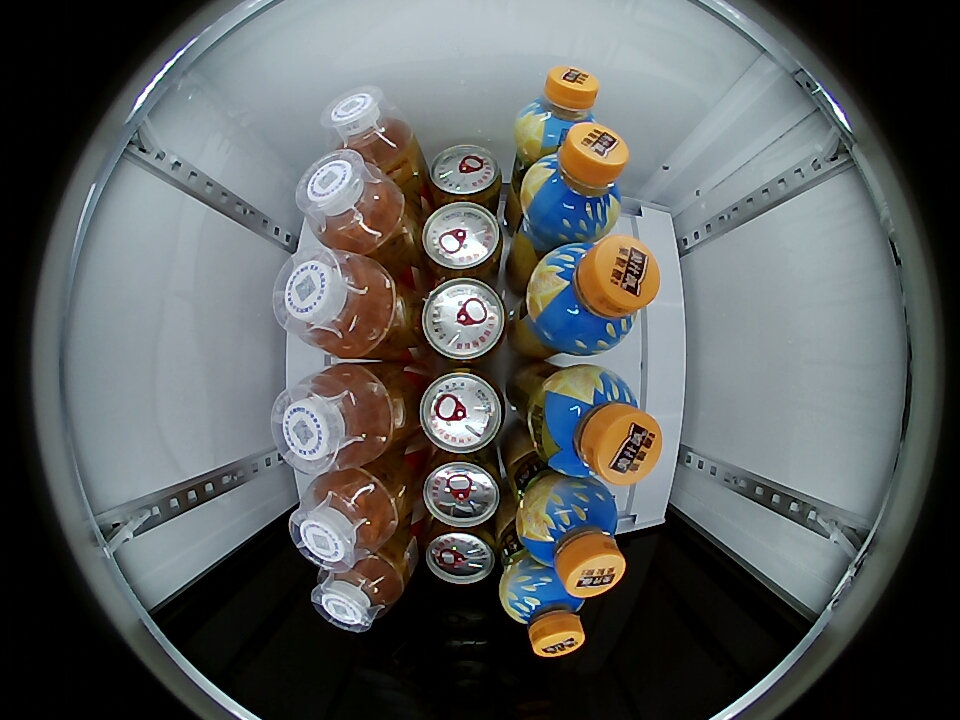dongpeng: (419, 277, 508, 364), (418, 368, 506, 454), (420, 201, 504, 278), (421, 454, 502, 528), (427, 142, 503, 205), (423, 524, 500, 585)
dongpeng-b: (273, 248, 400, 358), (271, 364, 396, 473), (296, 150, 406, 253), (290, 469, 401, 569), (324, 87, 416, 172), (312, 550, 406, 633)
guolicheng: (528, 236, 660, 355), (534, 367, 662, 484), (521, 122, 629, 240), (518, 479, 625, 597), (500, 563, 587, 657), (516, 67, 599, 156)
